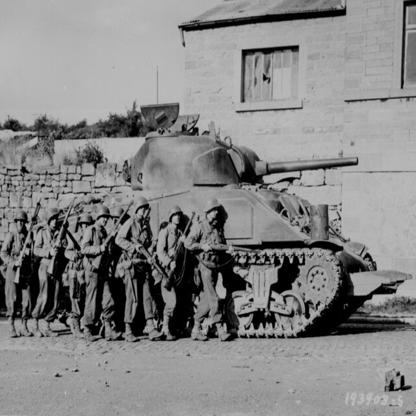Tank: (45, 132, 416, 346)
